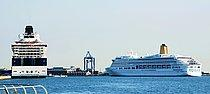Ship: (102, 48, 206, 80), (7, 22, 55, 80)
